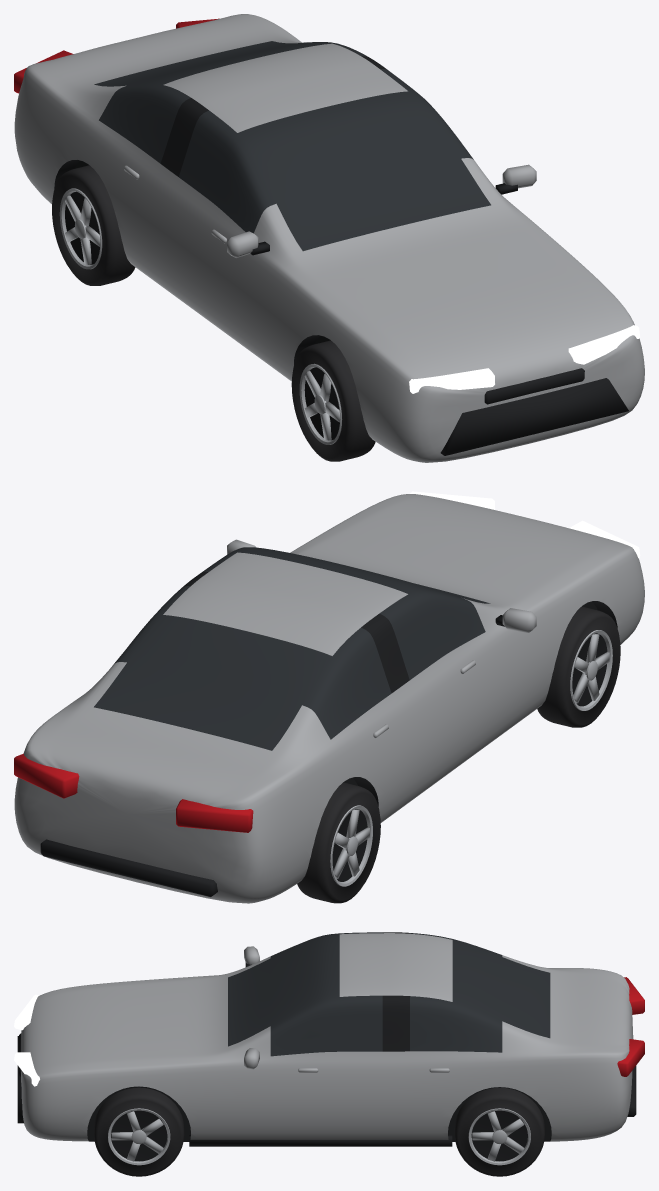
The model's file is velora-sedan.glb.
3 renders of one model, top to bottom at view 1: azimuth 30°, elevation 25°; view 2: azimuth 150°, elevation 25°; view 3: azimuth 270°, elevation 25°, orthographic. The views are drawn at different scales.
Visible parts, largest first — view 1: velora-sedan; view 2: velora-sedan; view 3: velora-sedan.
Boxes of the visible parts, x1=… form: velora-sedan: x1=14, y1=14, x2=644, y2=462; velora-sedan: x1=14, y1=491, x2=644, y2=903; velora-sedan: x1=14, y1=932, x2=644, y2=1176.
Bounding box in the file's own units: 2.13 × 1.47 × 5.04.
